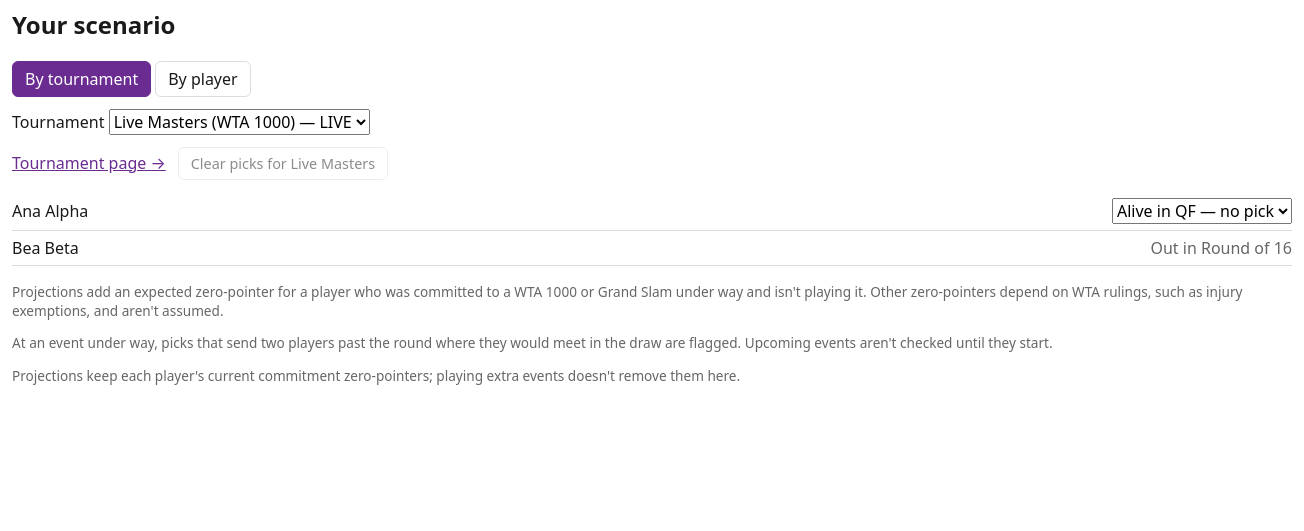
ScenarioEditor › by player: one dropdown per remaining event
Click the tab "By player". click: (203, 79)
box: [155,61,251,97]
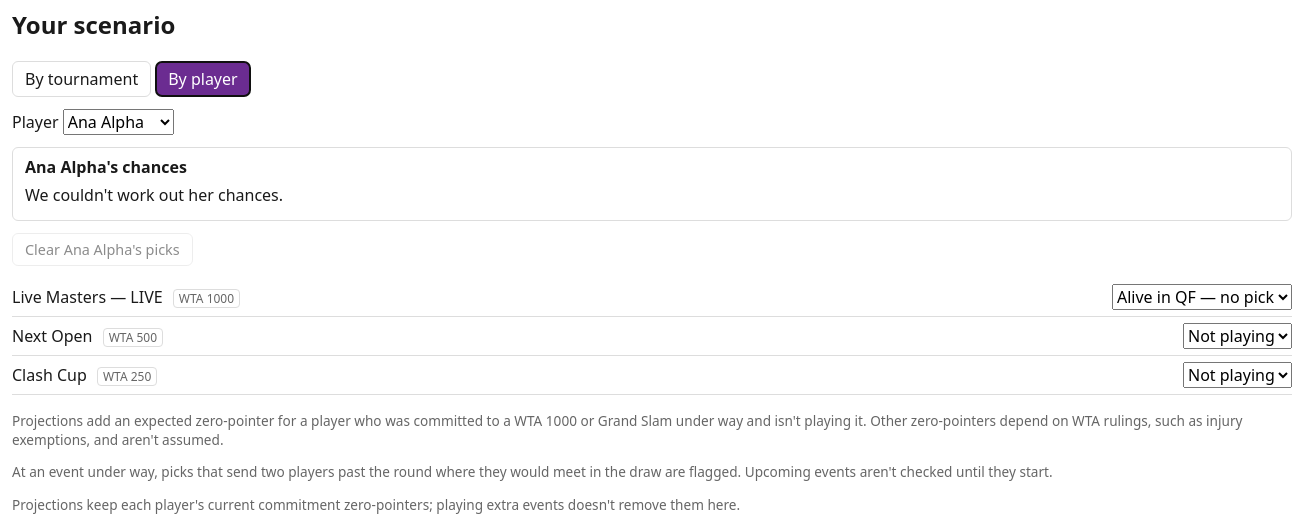
Select "Bea Beta" in the dropdown labelled "Player". click: (118, 122)
box: [63,109,174,135]
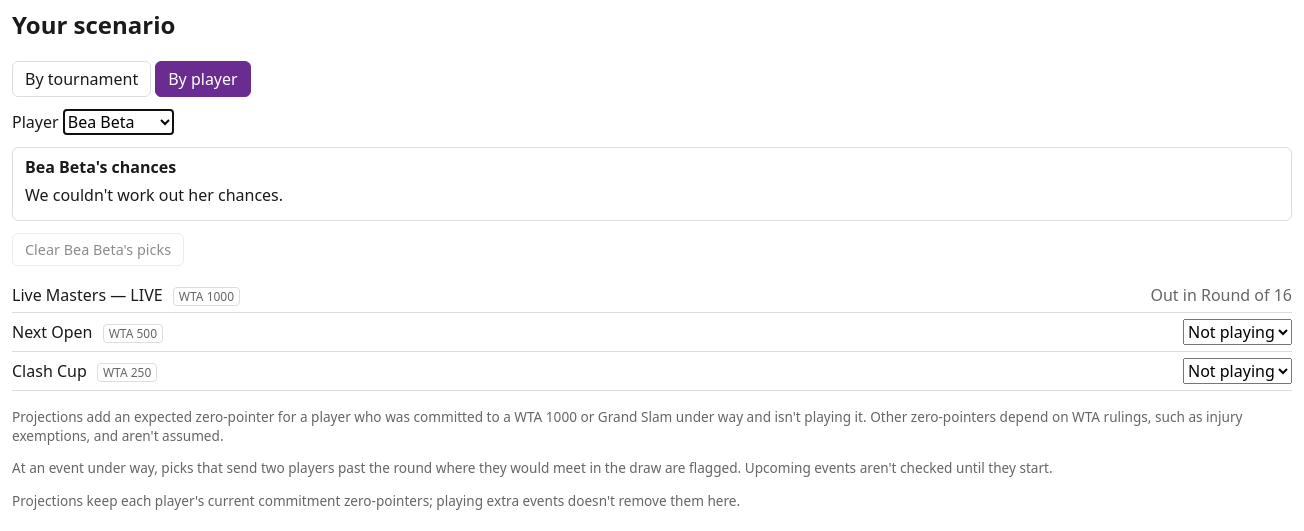
Expected: the text "Out in Round of 16" is shown, [1150,284,1292,306]
Expected: the dropdown named "Bea Beta at Next Open" is shown, [1183,319,1292,345]
Expected: the dropdown named "Bea Beta at Clash Cup" is shown, [1183,358,1292,384]
